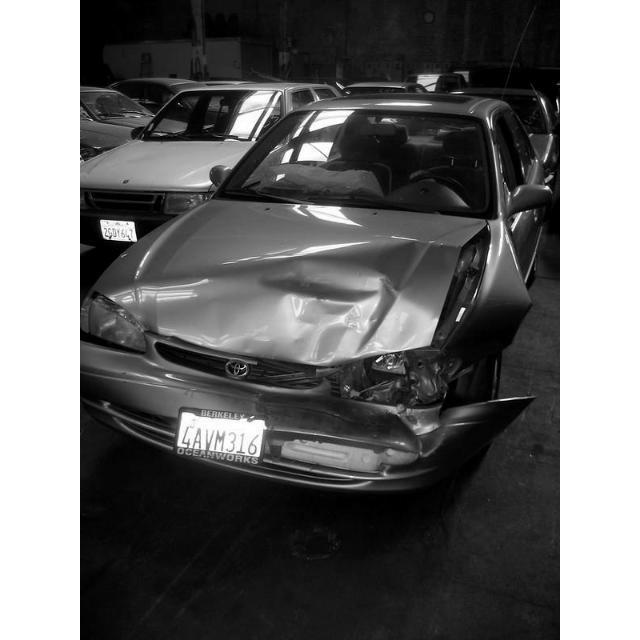bonnet-dent: (117, 194, 448, 366)
front-bumper-dent: (89, 345, 461, 486)
